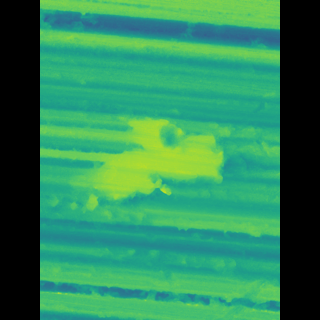Loch: (79, 109, 216, 231)
